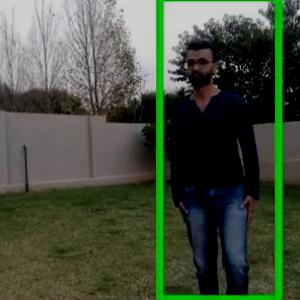follow: (167, 34, 265, 299)
